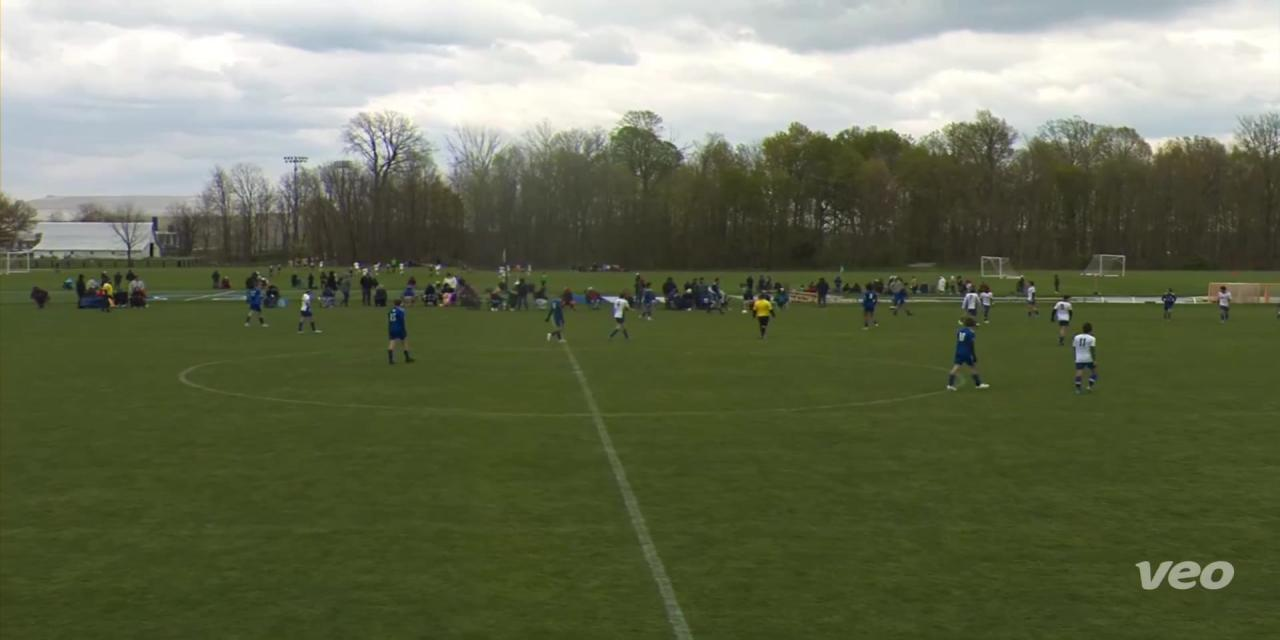sports ball: (737, 301, 751, 325)
